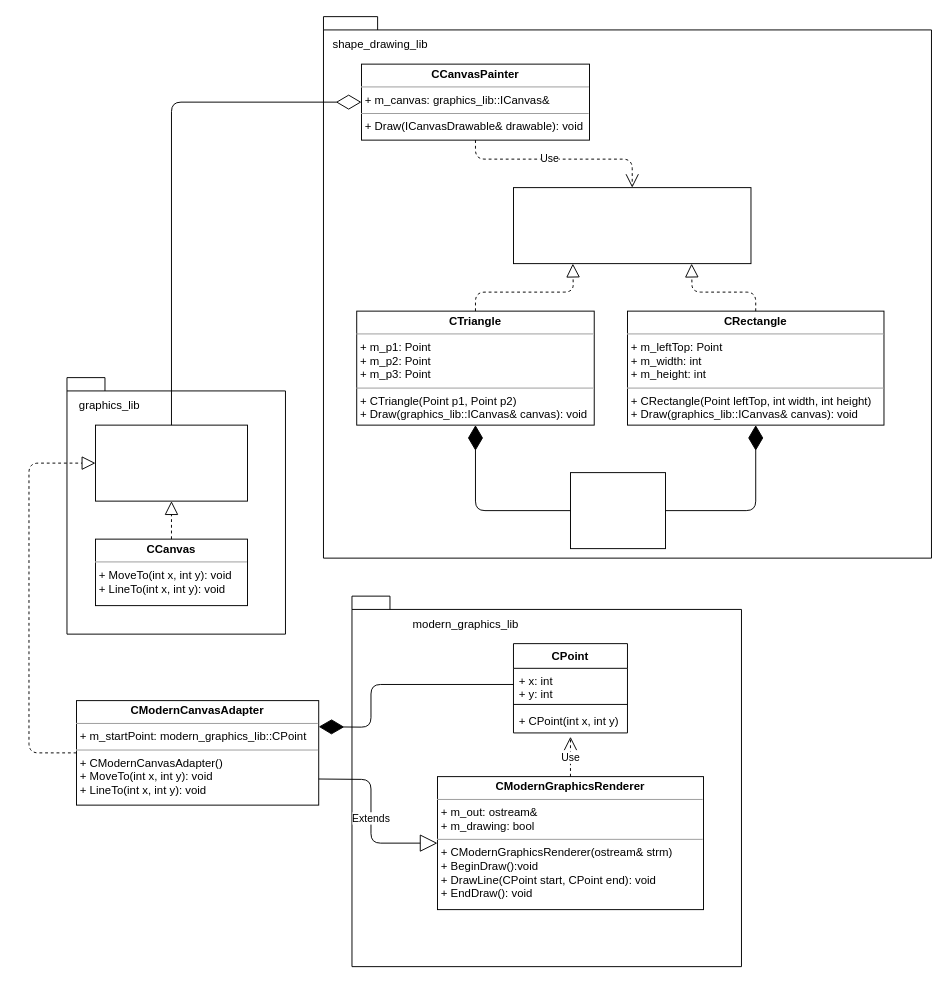
This 948x983 diagram has some shape labels left out. The shapes that lost their labels are listed below. From the top down, each one's centre as x and y in pixels, then its label:
point (632, 225): <<Interface>> ICanvasDrawable + Draw(graphics_lib::ICanvas& canvas): void
point (171, 462): <<Interface>> ICanvas + MoveTo(int x, int y): void + LineTo(int x, int y): void
point (617, 510): <<struct>> Point + x: int + y: int
